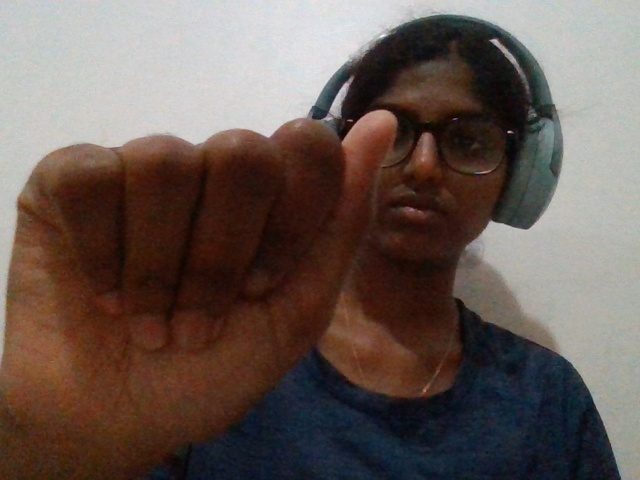A: (3, 103, 416, 480)
